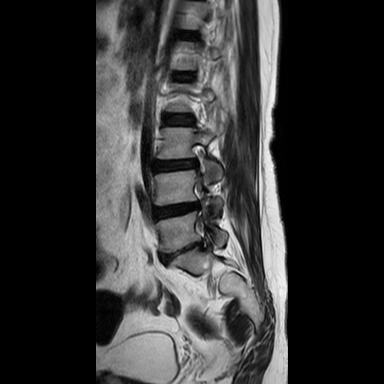RFS0: (183, 138, 210, 176)
